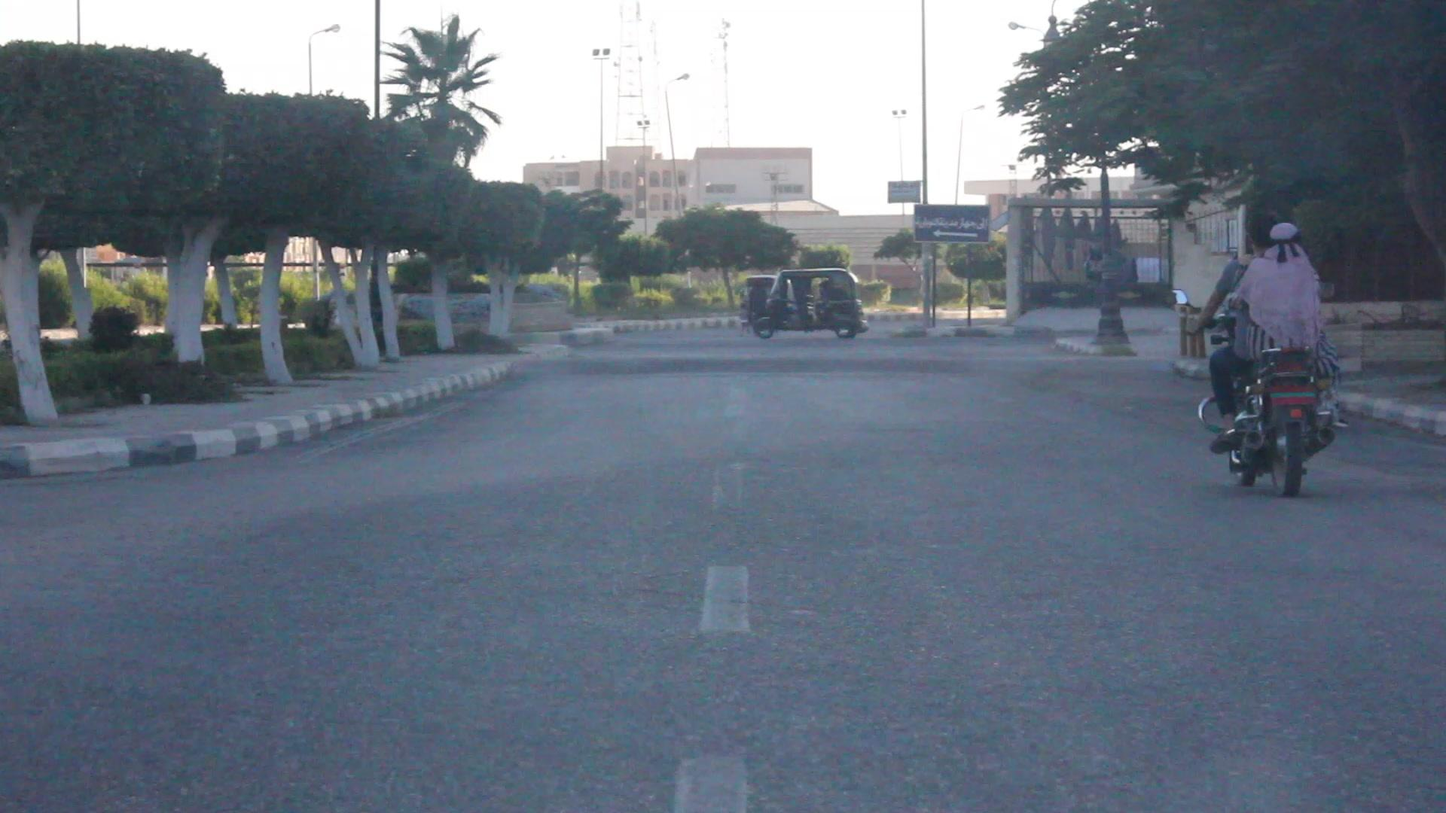Bump: (550, 348, 981, 378)
